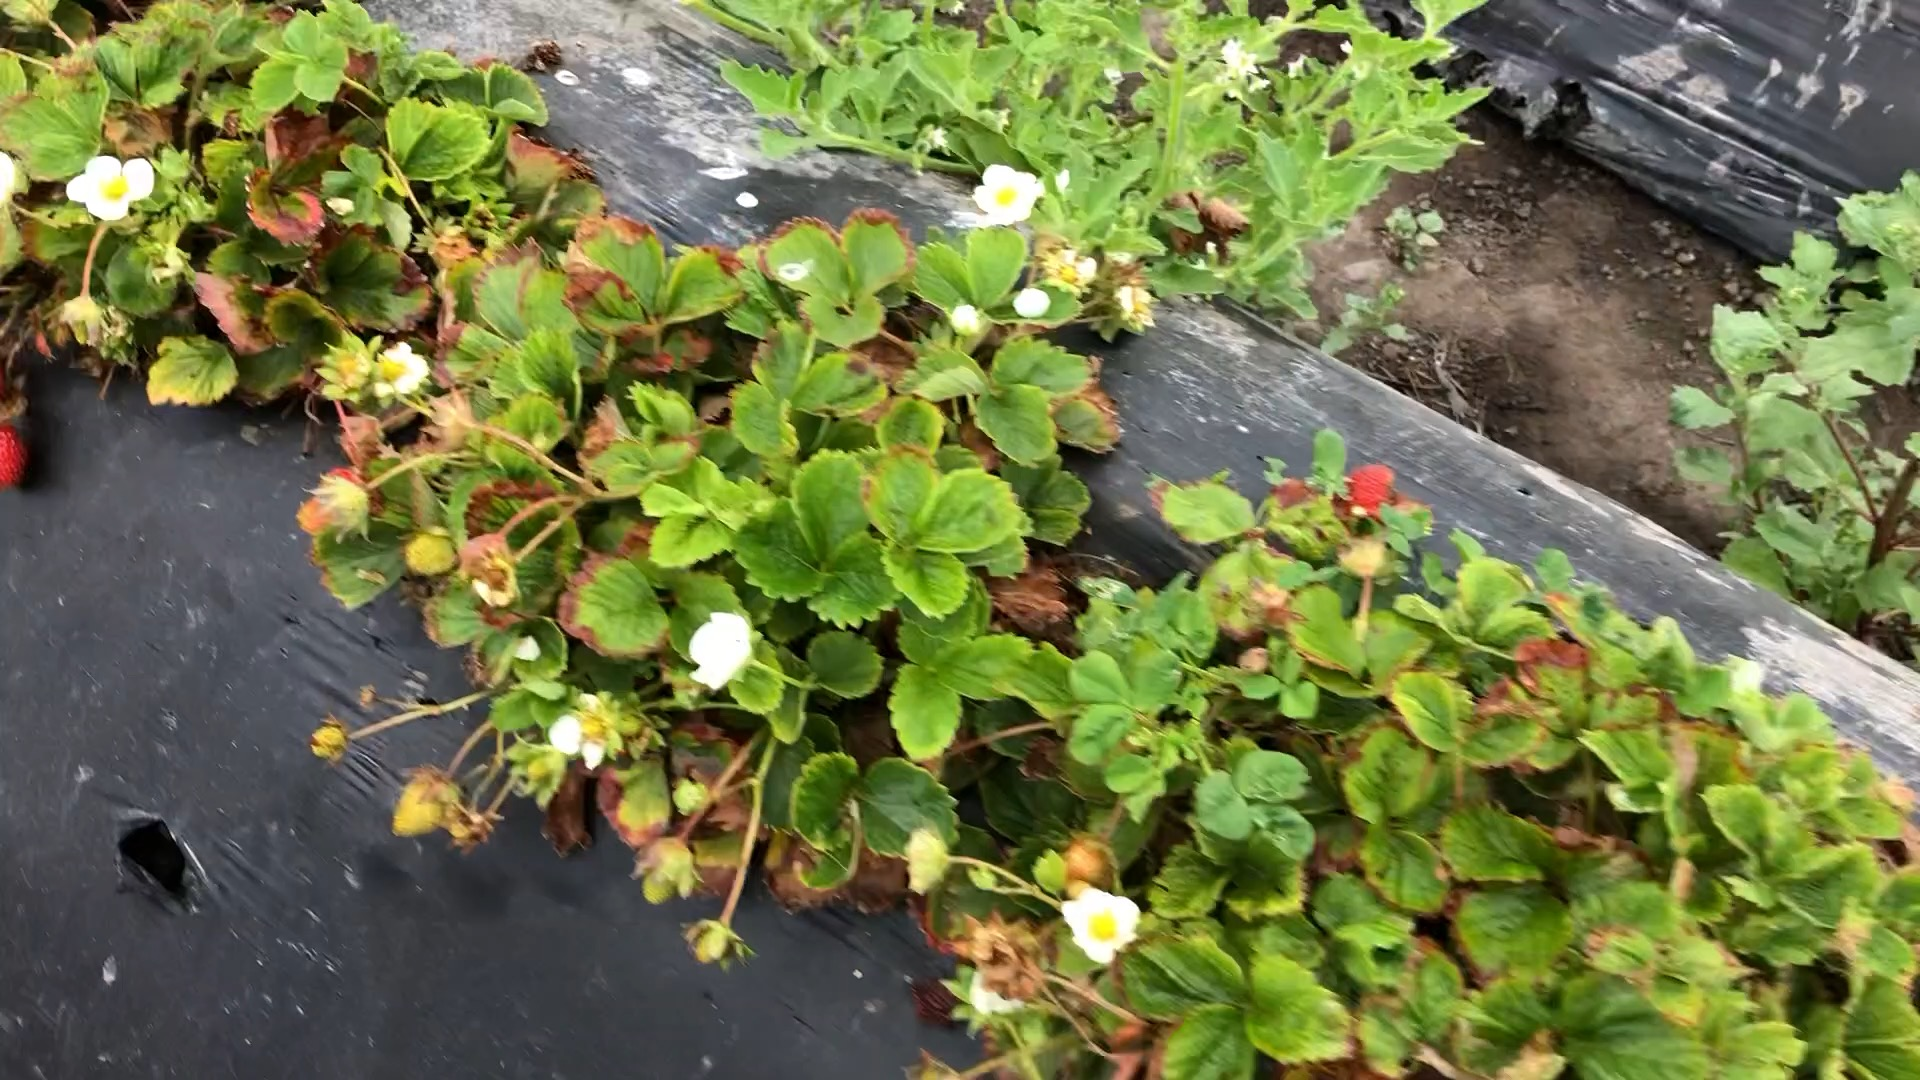ripe_strawberry: (1327, 463, 1398, 527), (1, 421, 34, 493)
unripe_strawberry: (386, 767, 459, 843), (640, 841, 688, 909), (1063, 833, 1116, 895), (404, 527, 462, 579), (691, 922, 733, 967)
